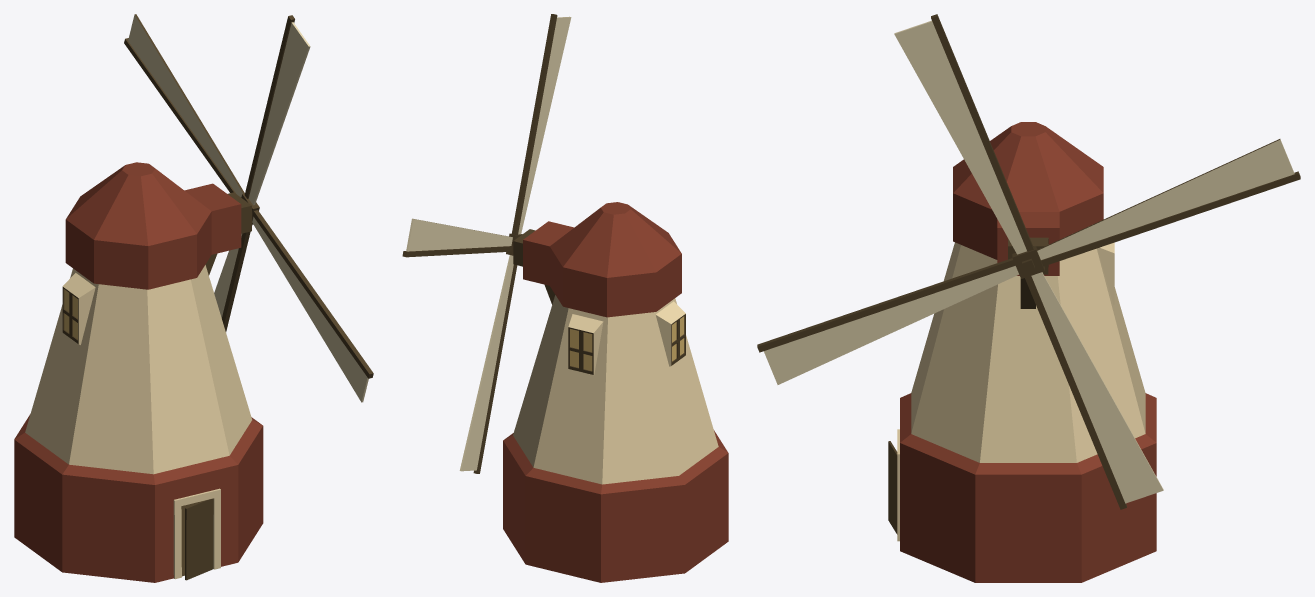
File: windmill-transformed.glb
The picture shows the model from 3 angles, left to right: view 1: azimuth 30°, elevation 25°; view 2: azimuth 150°, elevation 25°; view 3: azimuth 270°, elevation 25°; orthographic projection. The views are drawn at different scales.
Parts seen in each view (by area): view 1: Tower, Blades, Door, Window.002; view 2: Tower, Blades, Window.001, Window.002; view 3: Tower, Blades, Door.
Part boxes in pixels (<box>): Tower: <box>14,162,263,582</box>; Blades: <box>124,14,373,402</box>; Door: <box>185,498,213,580</box>; Window.002: <box>62,273,95,344</box>; Tower: <box>503,202,728,582</box>; Blades: <box>402,14,571,473</box>; Window.001: <box>568,314,603,374</box>; Window.002: <box>655,301,685,366</box>; Tower: <box>897,122,1156,582</box>; Blades: <box>757,14,1300,509</box>; Door: <box>888,441,897,534</box>.
Bounding box in the file's own units: 15.55 × 35.36 × 30.39.
